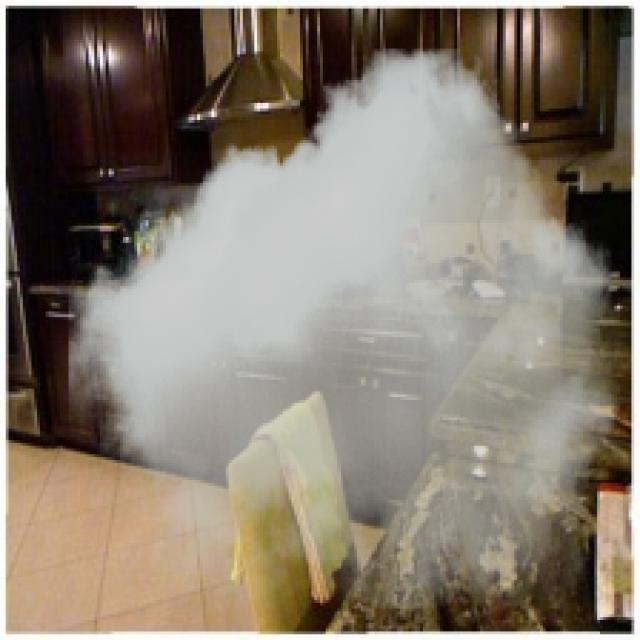Smoke: (69, 49, 620, 608)
